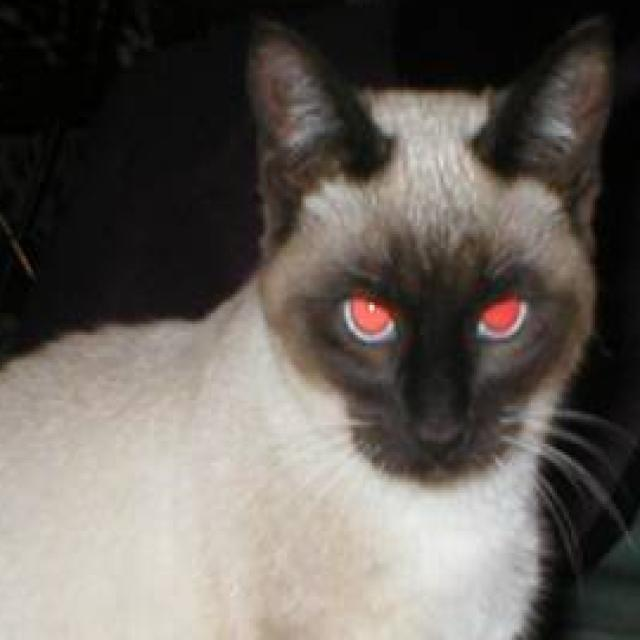Siamese: (0, 8, 626, 640)
